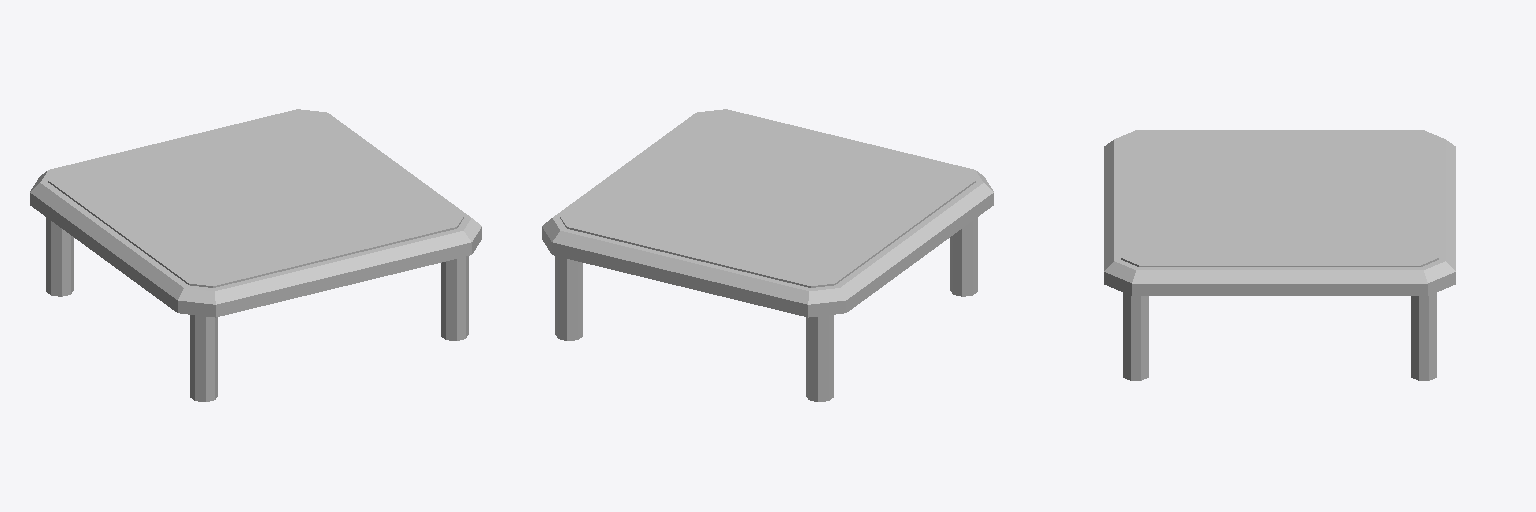
File: table small.obj
The picture shows the model from 3 angles: view 1: azimuth 30°, elevation 25°; view 2: azimuth 150°, elevation 25°; view 3: azimuth 270°, elevation 25°; orthographic projection.
Visible parts, largest first — view 1: Cube.001_Cube.003; view 2: Cube.001_Cube.003; view 3: Cube.001_Cube.003.
Boxes of the visible parts, x1=… form: Cube.001_Cube.003: x1=30, y1=109, x2=481, y2=401; Cube.001_Cube.003: x1=542, y1=109, x2=993, y2=401; Cube.001_Cube.003: x1=1104, y1=130, x2=1455, y2=380.
Size of the model in its own units: 3.42 by 1.23 by 3.42.